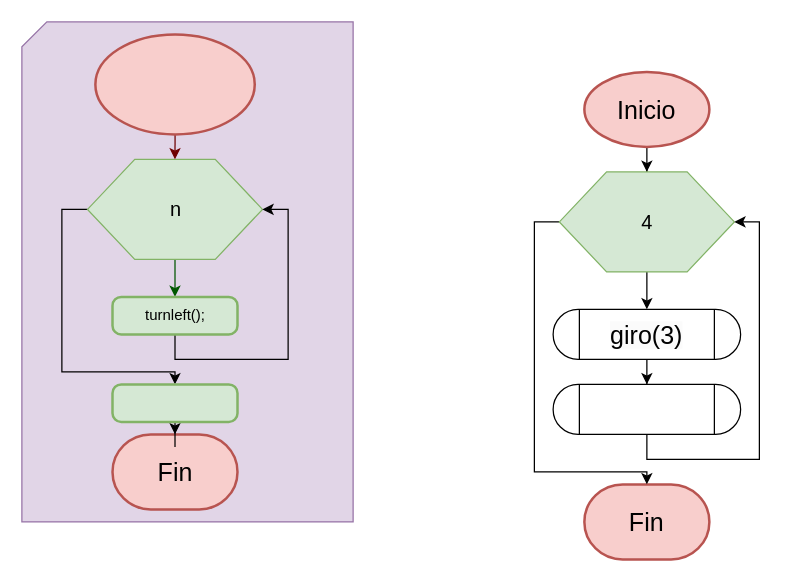
The diagram is 791 pixels wide and 583 high, and some of its shapes have lost their labels. Each missing label, with the centre of its shape:
giro(2): the point at 646,408
Inicio(giro(n)): the point at 174,83
move();: the point at 174,402
